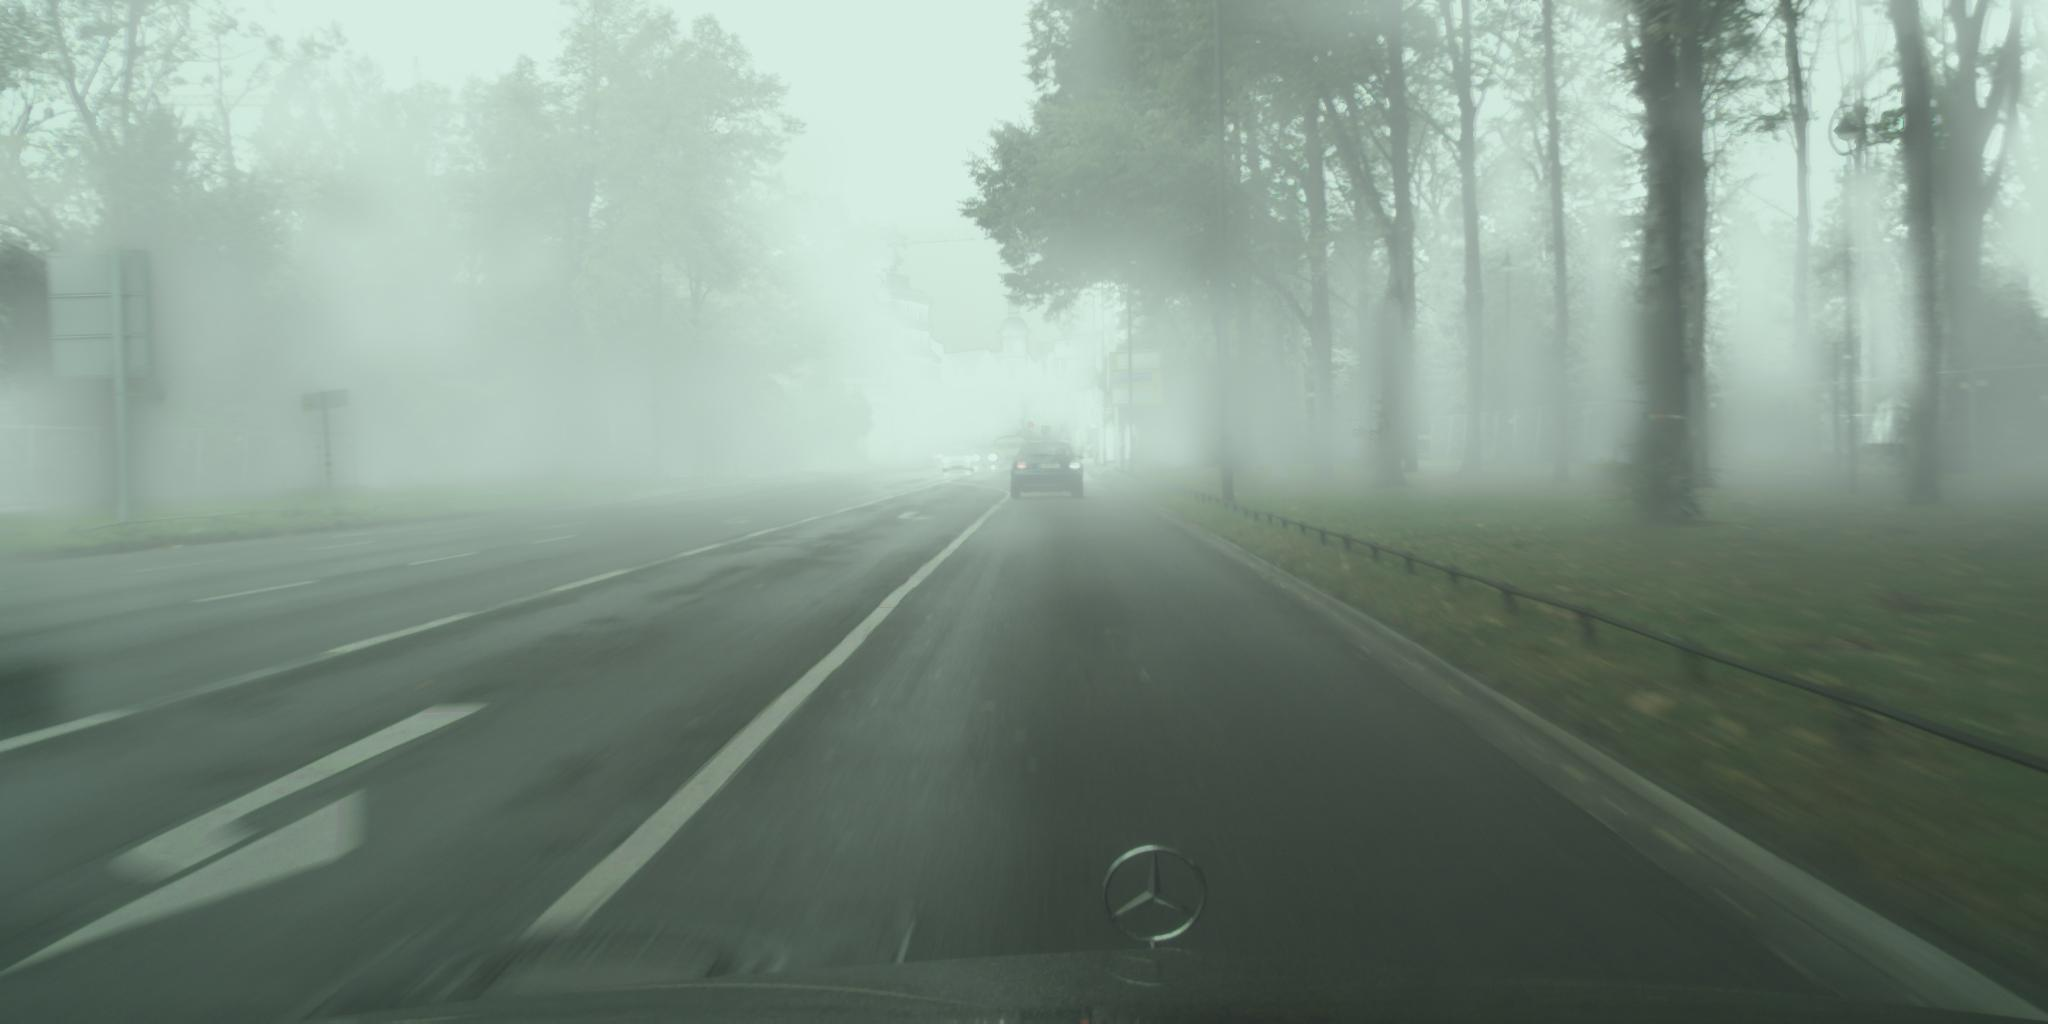car: (1007, 440, 1085, 502), (987, 438, 1029, 462), (942, 447, 974, 475), (970, 448, 999, 470)
